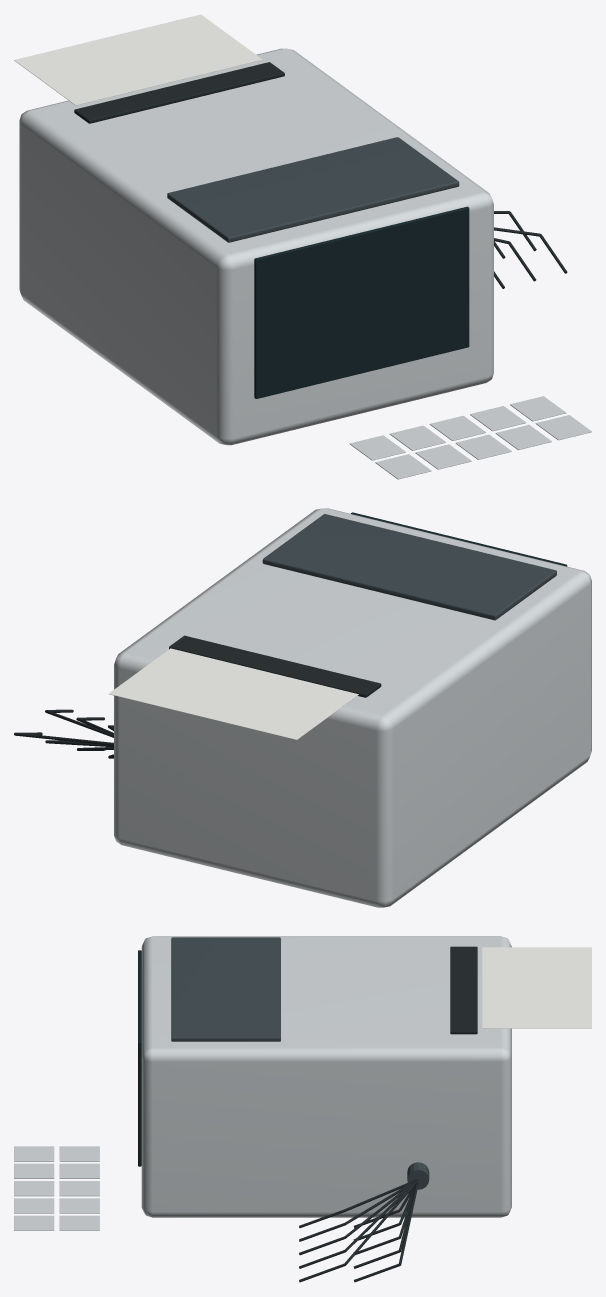
The model's file is ecg_machine.fbx.
3 views of the same model, one above another, from view 1: azimuth 30°, elevation 25°; view 2: azimuth 150°, elevation 25°; view 3: azimuth 270°, elevation 25° (orthographic). The views are drawn at different scales.
Visible parts, largest first — view 1: EQ_ecg_machine_Body, EQ_ecg_machine_Screen, EQ_ecg_machine_Keyboard, EQ_ecg_machine_Printout, EQ_ecg_machine_PrinterSlot, EQ_ecg_machine_Electrode0, EQ_ecg_machine_Electrode1, EQ_ecg_machine_Electrode3, EQ_ecg_machine_Electrode4, EQ_ecg_machine_Electrode5, EQ_ecg_machine_Electrode6, EQ_ecg_machine_Electrode7 (+3 smaller); view 2: EQ_ecg_machine_Body, EQ_ecg_machine_Keyboard, EQ_ecg_machine_Printout, EQ_ecg_machine_PrinterSlot, EQ_ecg_machine_Screen; view 3: EQ_ecg_machine_Body, EQ_ecg_machine_Keyboard, EQ_ecg_machine_Printout, EQ_ecg_machine_PrinterSlot, EQ_ecg_machine_Screen, EQ_ecg_machine_Electrode3, EQ_ecg_machine_Electrode8, EQ_ecg_machine_Electrode0, EQ_ecg_machine_Electrode1, EQ_ecg_machine_Electrode2, EQ_ecg_machine_Electrode4, EQ_ecg_machine_Electrode5 (+4 smaller).
Boxes of the visible parts, bbox=[...] form: EQ_ecg_machine_Body: bbox=[19, 48, 493, 445]; EQ_ecg_machine_Screen: bbox=[254, 206, 469, 398]; EQ_ecg_machine_Keyboard: bbox=[167, 137, 459, 242]; EQ_ecg_machine_Printout: bbox=[14, 14, 262, 105]; EQ_ecg_machine_PrinterSlot: bbox=[74, 62, 284, 123]; EQ_ecg_machine_Electrode0: bbox=[375, 454, 431, 479]; EQ_ecg_machine_Electrode1: bbox=[415, 444, 471, 469]; EQ_ecg_machine_Electrode3: bbox=[495, 424, 551, 450]; EQ_ecg_machine_Electrode4: bbox=[535, 415, 591, 440]; EQ_ecg_machine_Electrode5: bbox=[349, 435, 405, 460]; EQ_ecg_machine_Electrode6: bbox=[389, 425, 445, 450]; EQ_ecg_machine_Electrode7: bbox=[429, 415, 485, 440]; EQ_ecg_machine_Body: bbox=[114, 508, 591, 907]; EQ_ecg_machine_Keyboard: bbox=[262, 514, 556, 620]; EQ_ecg_machine_Printout: bbox=[109, 648, 358, 739]; EQ_ecg_machine_PrinterSlot: bbox=[169, 635, 381, 697]; EQ_ecg_machine_Screen: bbox=[351, 512, 567, 566]; EQ_ecg_machine_Body: bbox=[141, 936, 511, 1217]; EQ_ecg_machine_Keyboard: bbox=[171, 937, 280, 1041]; EQ_ecg_machine_Printout: bbox=[482, 947, 591, 1028]; EQ_ecg_machine_PrinterSlot: bbox=[450, 946, 477, 1034]; EQ_ecg_machine_Screen: bbox=[138, 950, 141, 1166]; EQ_ecg_machine_Electrode3: bbox=[14, 1198, 54, 1213]; EQ_ecg_machine_Electrode8: bbox=[59, 1198, 99, 1213]; EQ_ecg_machine_Electrode0: bbox=[14, 1146, 54, 1161]; EQ_ecg_machine_Electrode1: bbox=[14, 1163, 54, 1178]; EQ_ecg_machine_Electrode2: bbox=[14, 1181, 54, 1196]; EQ_ecg_machine_Electrode4: bbox=[14, 1215, 54, 1230]; EQ_ecg_machine_Electrode5: bbox=[59, 1146, 99, 1161].
Bounding box in the file's own units: 0.4865 × 0.211 × 0.632.
